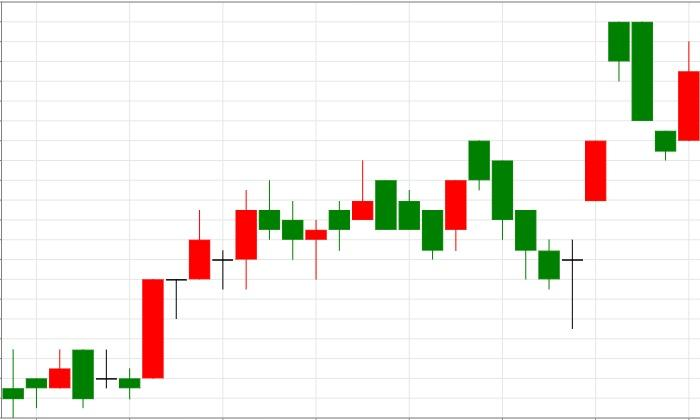shooting_star_fall: (304, 160, 374, 280)
